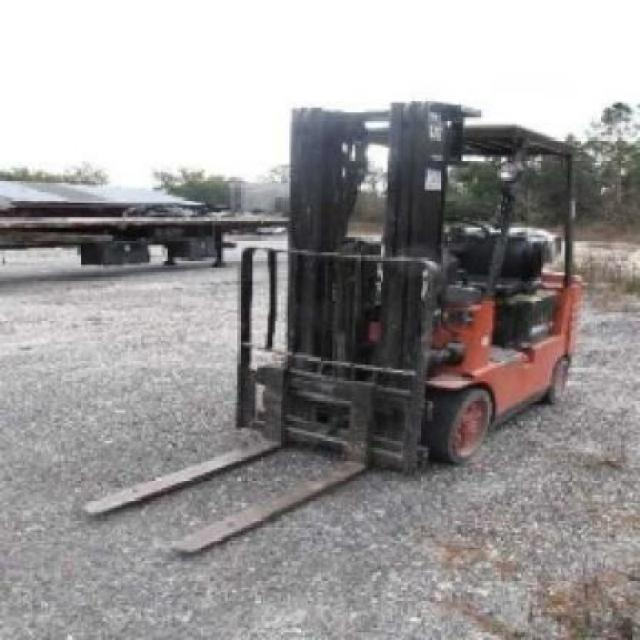forklift: (232, 85, 577, 473)
